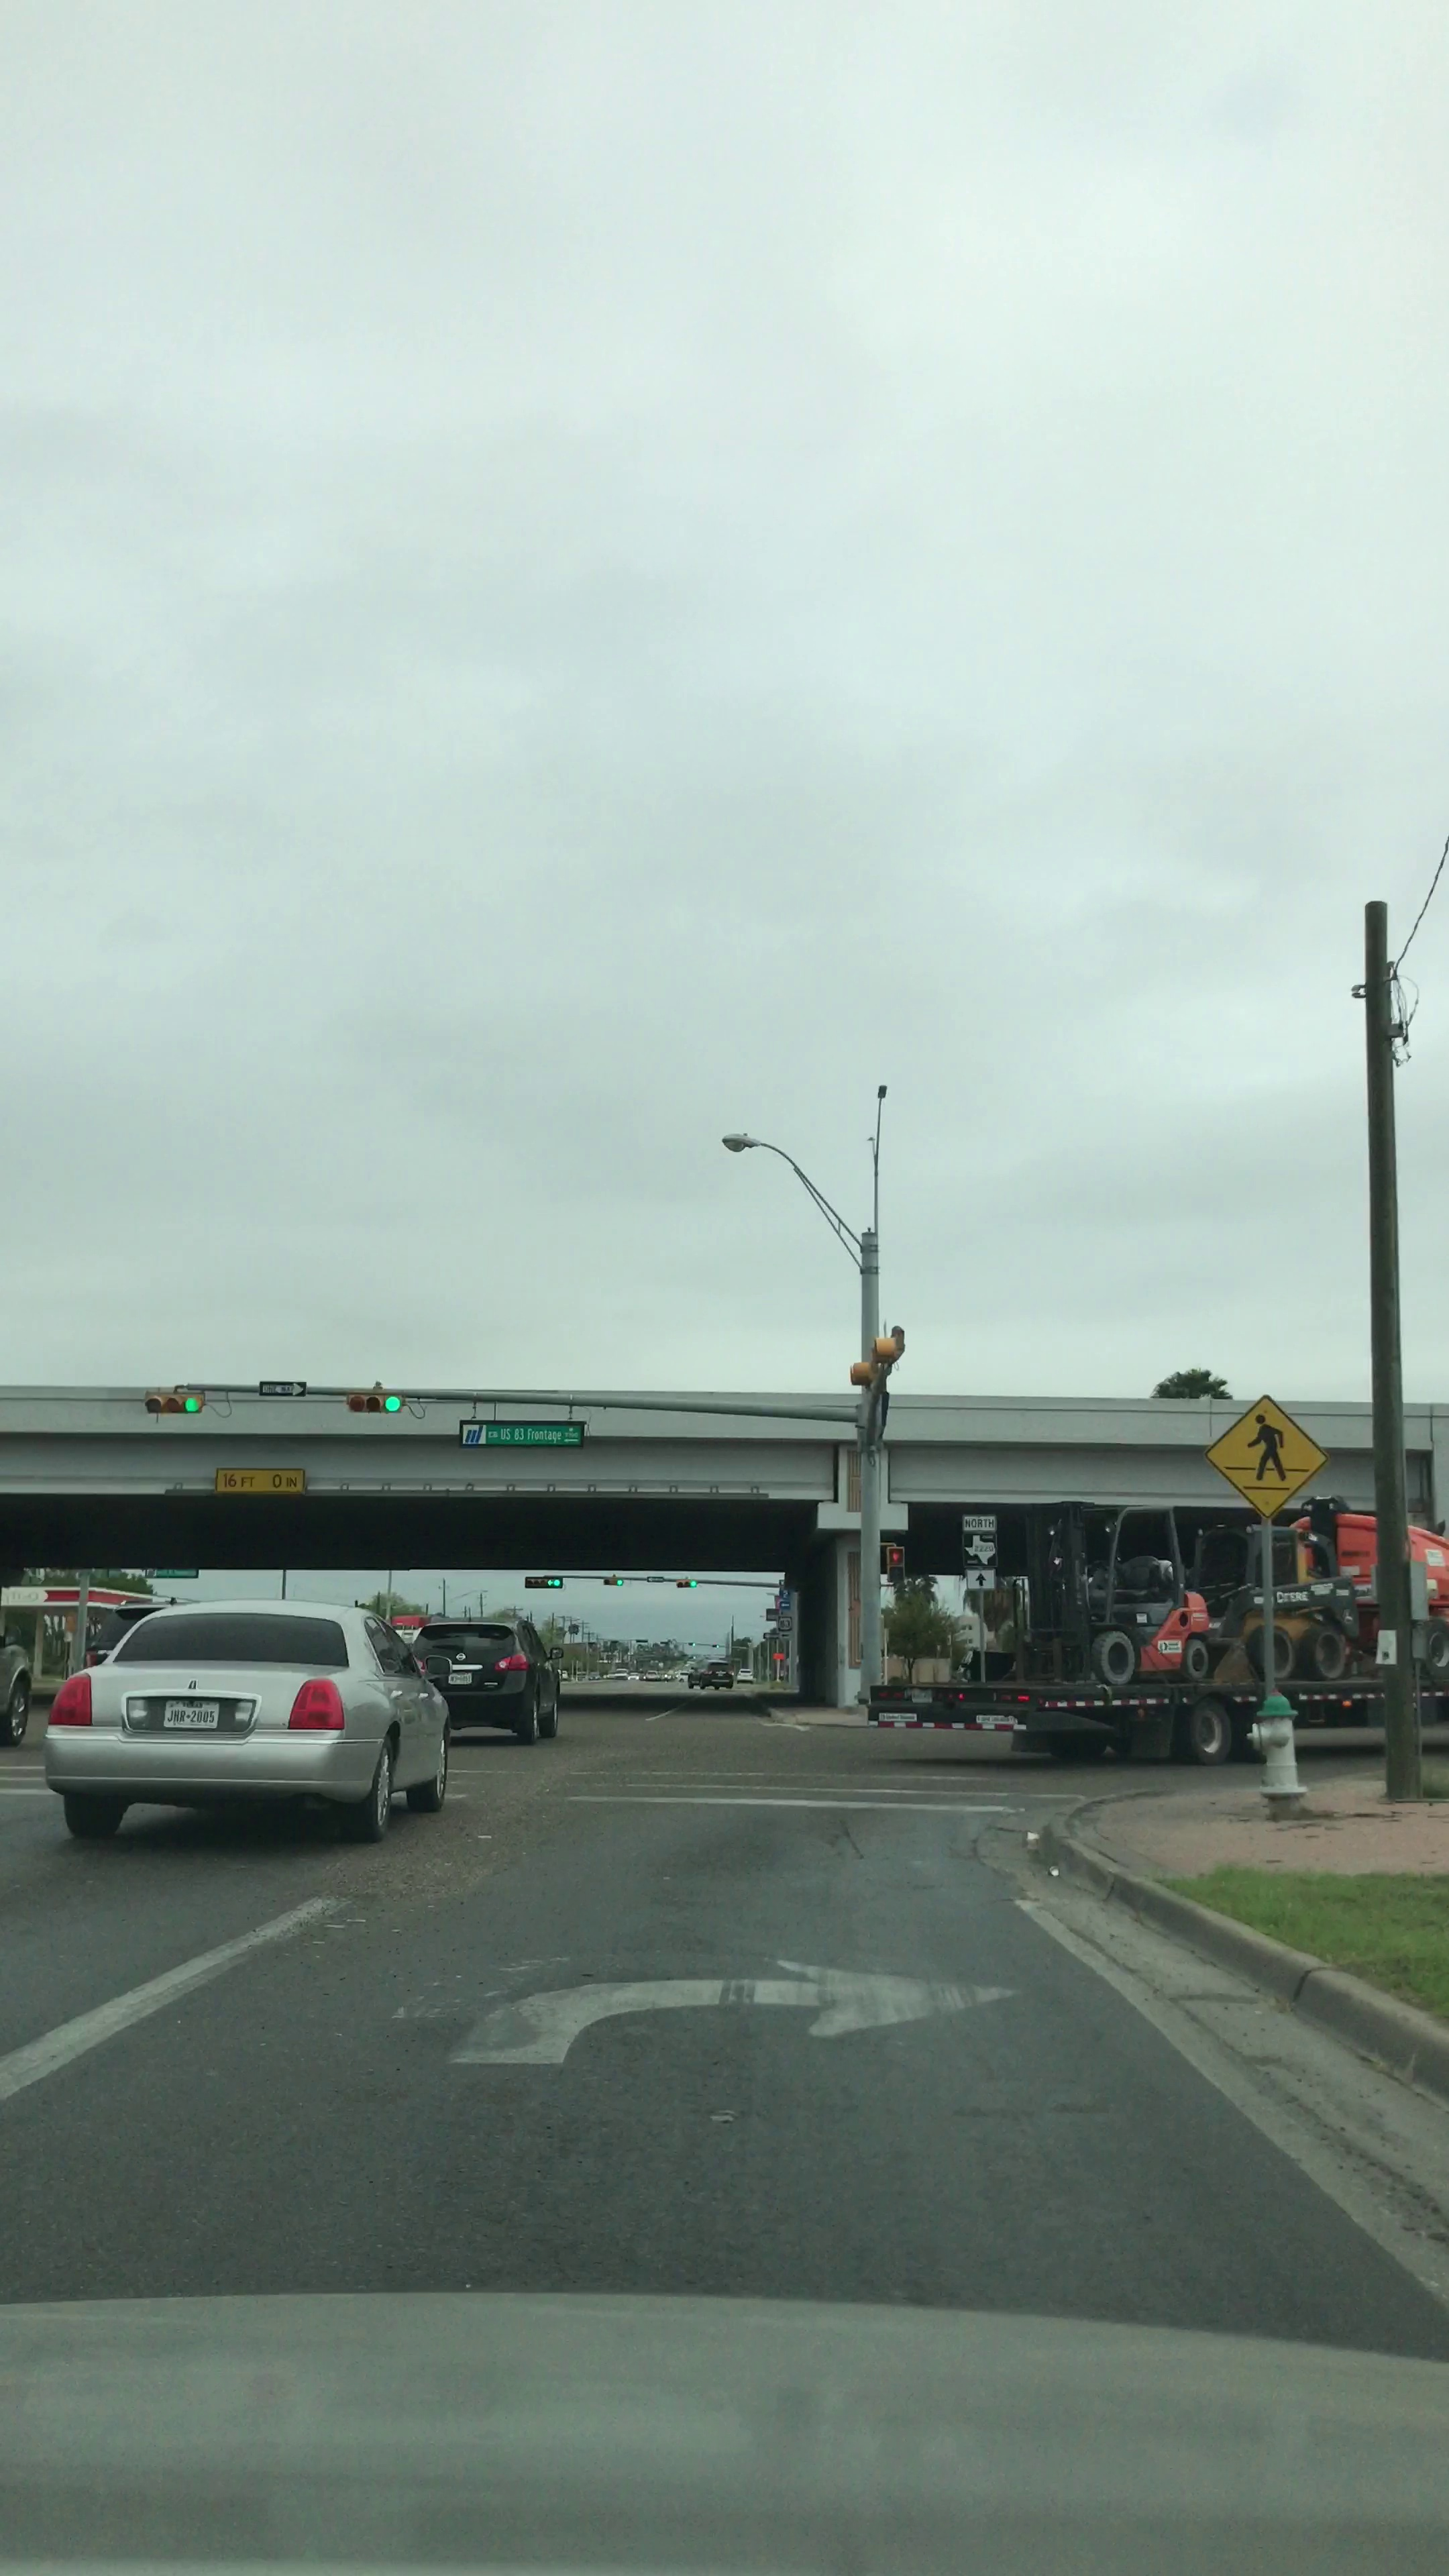blurredLine: (409, 1927, 1014, 2120)
